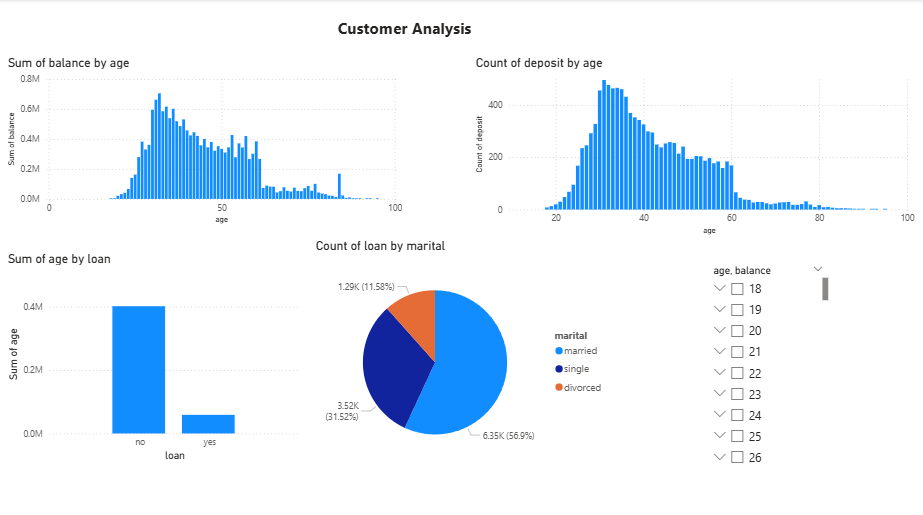

The dashboard page shown, as its layout file describes it:
{"tool":"powerbi","page":{"name":"Customer Analysis","canvas":[1280,720],"ordinal":1},"visuals":[{"type":"columnChart","fields":{"Category":["dataset for intern.loan"],"Y":["Sum(dataset for intern.age)"]},"box":[10.2,346.8,412.7,294.1],"z":0},{"type":"pieChart","fields":{"Category":["dataset for intern.marital"],"Y":["CountNonNull(dataset for intern.loan)"]},"box":[433.2,329.3,412.7,323.4],"z":1000},{"type":"columnChart","fields":{"Category":["dataset for intern.age"],"Y":["Sum(dataset for intern.balance)"]},"box":[10.2,77.6,553.2,237.1],"z":2000},{"type":"slicer","fields":{"Values":["dataset for intern.age","dataset for intern.balance"]},"box":[973.2,360,175.6,292.7],"z":3000},{"type":"columnChart","fields":{"Category":["dataset for intern.age"],"Y":["CountNonNull(dataset for intern.deposit)"]},"box":[654.1,77.6,614.6,251.7],"z":4000},{"type":"textbox","box":[463.9,20.5,382,57.1],"z":4001}]}

Visuals, with their boxes in screenshot pixels (x1, y1, x2, y2), scaled from the page's 1280x720 canvas onto the 923x515 screenshot:
columnChart - dataset for intern.loan x Sum(dataset for intern.age): [7, 248, 305, 458]
pieChart - dataset for intern.marital x CountNonNull(dataset for intern.loan): [312, 236, 610, 467]
columnChart - dataset for intern.age x Sum(dataset for intern.balance): [7, 56, 406, 225]
slicer - dataset for intern.age x dataset for intern.balance: [702, 258, 828, 467]
columnChart - dataset for intern.age x CountNonNull(dataset for intern.deposit): [472, 56, 915, 236]
textbox: [335, 15, 610, 56]
